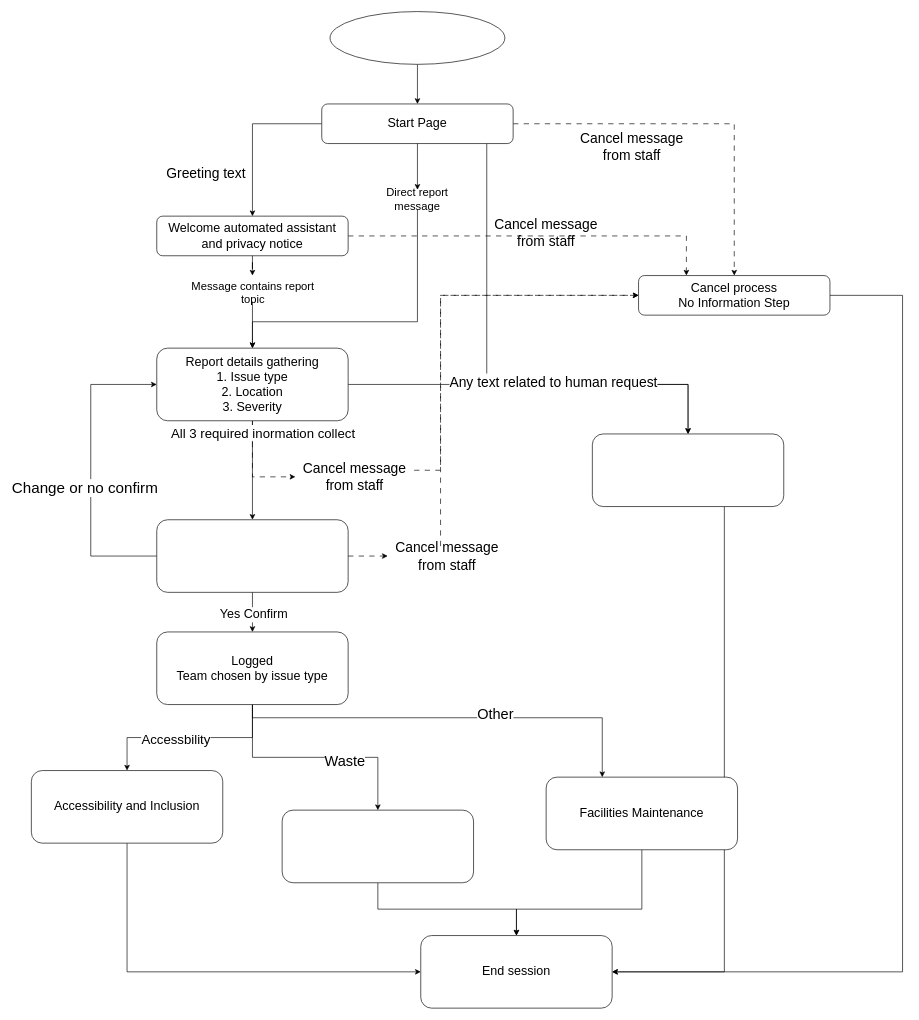
Image size: 919x1020. Some labels were removed from this diagram. Here are the shapes that lost their labels. From the top down, the box of each, then its label:
(329, 11, 505, 64): Staff member message
(592, 433, 784, 507): Escalate to human Facilities and Safety on-call team
(156, 519, 348, 592): Review Report 1. Read-back summary 2. Ask to confirm
(281, 809, 474, 883): Sustainability Office
